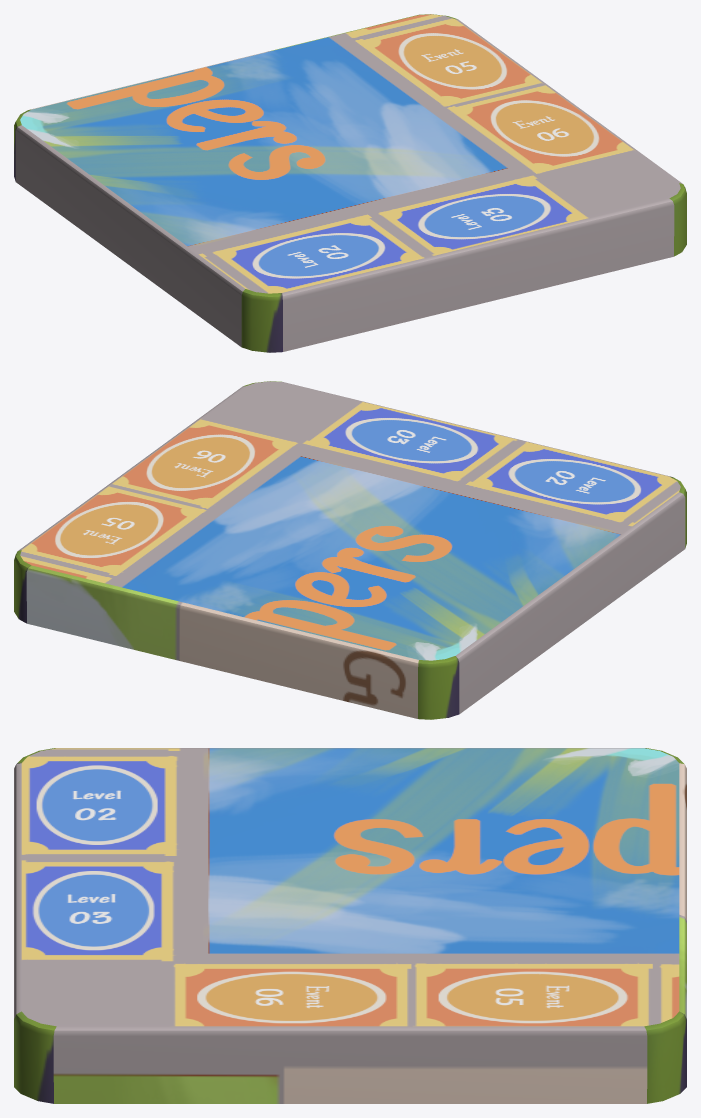
File: Asset_Box_Couvercle.fbx
The picture shows the model from 3 angles, top to bottom: view 1: azimuth 30°, elevation 25°; view 2: azimuth 150°, elevation 25°; view 3: azimuth 270°, elevation 25°; orthographic projection. The views are drawn at different scales.
Visible parts, largest first — view 1: Asset_Boite_Couvercle; view 2: Asset_Boite_Couvercle; view 3: Asset_Boite_Couvercle.
Part boxes in pixels (bbox=[...]): Asset_Boite_Couvercle: bbox=[14, 14, 686, 352]; Asset_Boite_Couvercle: bbox=[14, 381, 686, 719]; Asset_Boite_Couvercle: bbox=[14, 748, 686, 1103].
Bounding box in the file's own units: 361 × 44.03 × 361.
